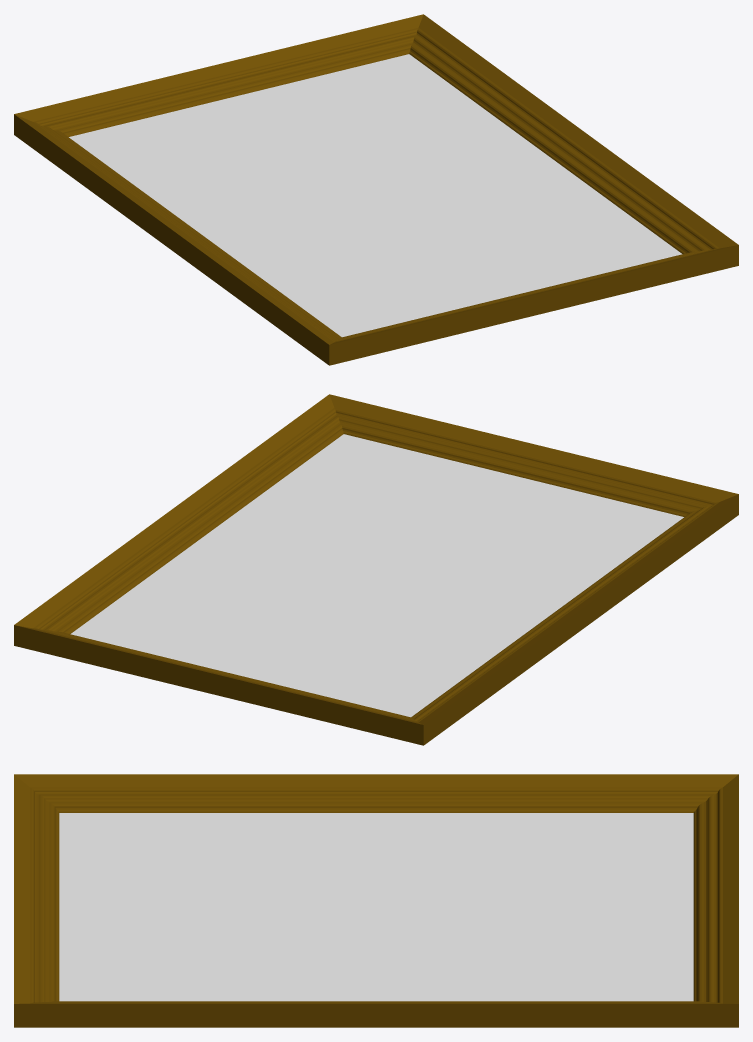
Rendered from frame-32x24.fbx.
3 views of the same model, one above another, from view 1: azimuth 30°, elevation 25°; view 2: azimuth 150°, elevation 25°; view 3: azimuth 270°, elevation 25° (orthographic). The views are drawn at different scales.
Visible parts, largest first — view 1: Cube; view 2: Cube; view 3: Cube.
Part boxes in pixels (x1,y1,x2,y2): Cube: (14, 14, 738, 365); Cube: (14, 394, 738, 745); Cube: (14, 774, 738, 1027).
Size of the model in its own units: 24 by 1.16 by 32.
